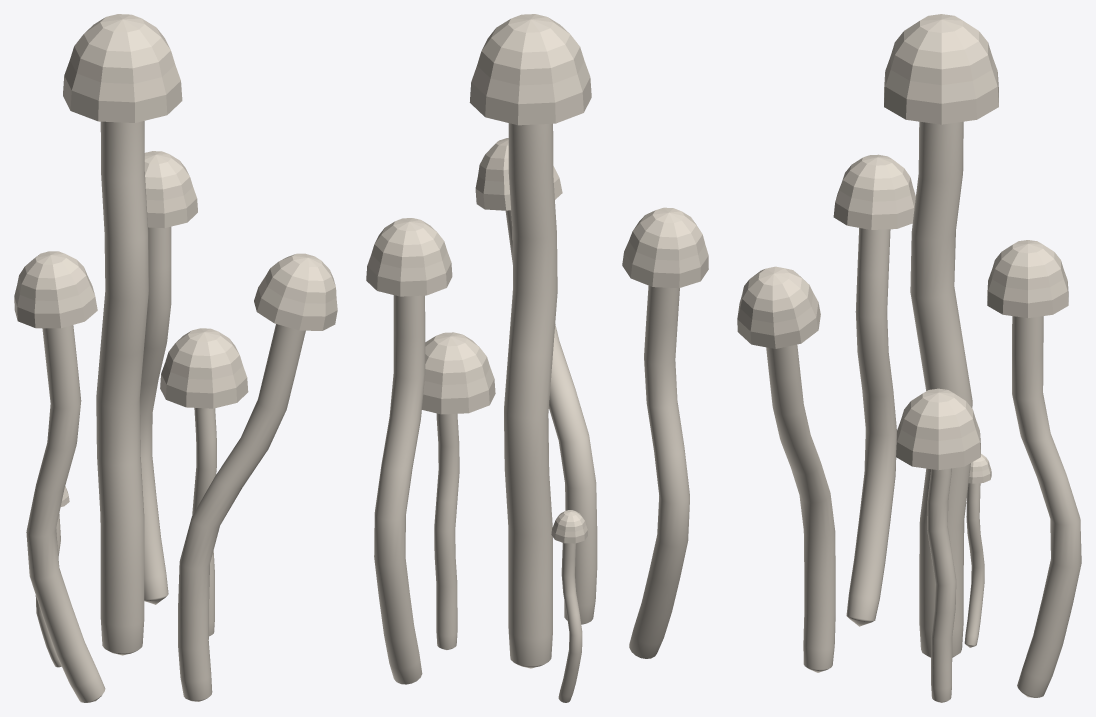
The model's file is FBX_Mushroom_Group.fbx.
The picture shows the model from 3 angles, left to right: view 1: azimuth 30°, elevation 25°; view 2: azimuth 150°, elevation 25°; view 3: azimuth 270°, elevation 25°; orthographic projection. The views are drawn at different scales.
Parts seen in each view (by area): view 1: pSphere13; view 2: pSphere13; view 3: pSphere13.
Boxes of the visible parts, x1=… form: pSphere13: x1=14, y1=14, x2=337, y2=702; pSphere13: x1=366, y1=14, x2=708, y2=702; pSphere13: x1=737, y1=14, x2=1081, y2=702.
Bounding box in the file's own units: 0.5439 × 1.27 × 0.607.
1 material, 1 textured.
